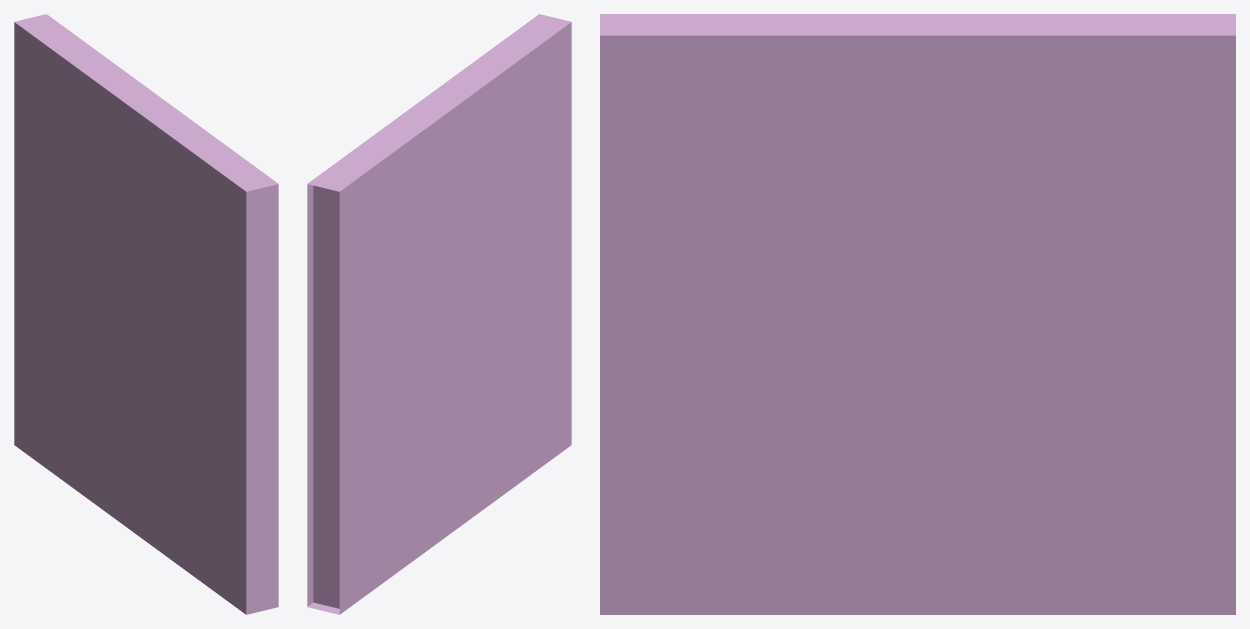
The model's file is Wall_Bath.fbx.
3 views of the same model, side by side, from view 1: azimuth 30°, elevation 25°; view 2: azimuth 150°, elevation 25°; view 3: azimuth 270°, elevation 25° (orthographic). The views are drawn at different scales.
Parts seen in each view (by area): view 1: Wall Bath; view 2: Wall Bath; view 3: Wall Bath.
Part boxes in pixels (left/top/right/bottom): Wall Bath: left=14, top=14, right=278, bottom=614; Wall Bath: left=307, top=14, right=571, bottom=614; Wall Bath: left=600, top=14, right=1235, bottom=614.
Size of the model in its own units: 77.89 by 972 by 967.
